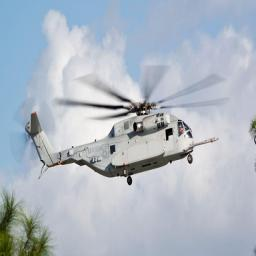helicopter: (22, 62, 229, 189)
